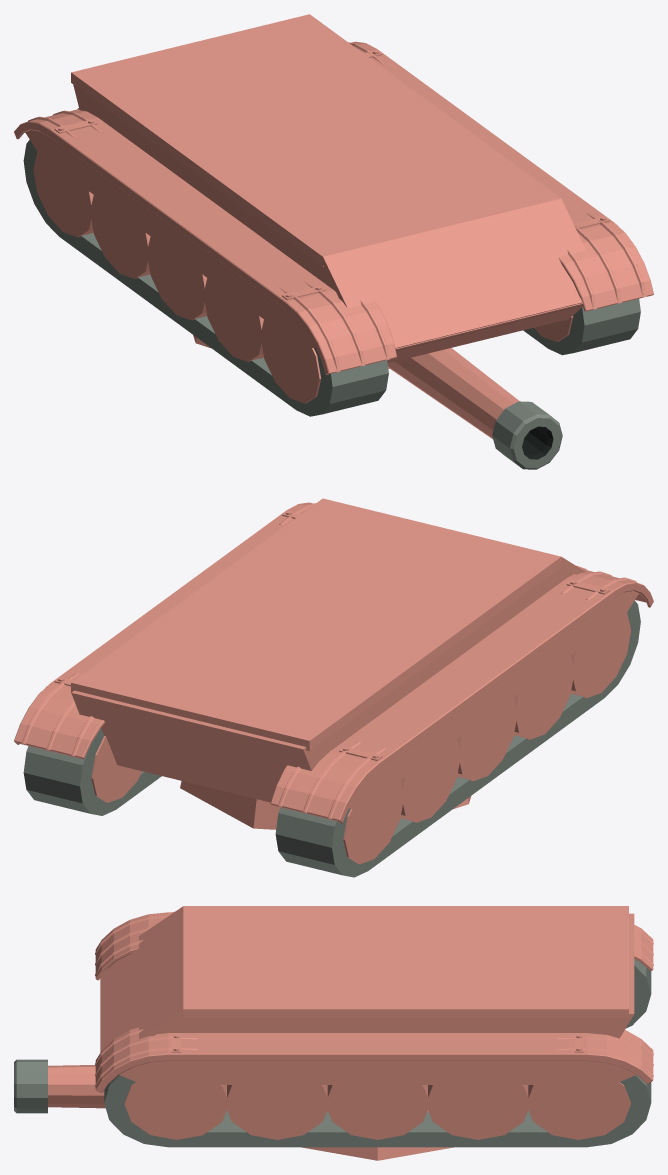
Rendered from cocky-tank.glb.
3 views of the same model, one above another, from view 1: azimuth 30°, elevation 25°; view 2: azimuth 150°, elevation 25°; view 3: azimuth 270°, elevation 25° (orthographic). The views are drawn at different scales.
Parts seen in each view (by area): view 1: tank-hull_tank-top, tank-hull_tank-paint, tank-hull_tank-track, tank-barrel_tank-paint, tank-hull_tank-pressed-mudguard-detail, wheel_left_5, wheel_left_1, wheel_left_3, wheel_left_2, wheel_left_4, tank-barrel_tank-track, tank-hull_tank-lower-armour (+1 smaller); view 2: tank-hull_tank-top, tank-hull_tank-paint, tank-hull_tank-track, wheel_left_1, wheel_left_5, wheel_left_2, tank-hull_tank-pressed-mudguard-detail, wheel_left_4, wheel_left_3, tank-turret_tank-paint, wheel_right_1; view 3: tank-hull_tank-top, tank-hull_tank-paint, tank-hull_tank-track, wheel_right_1, wheel_right_2, wheel_right_4, wheel_right_3, wheel_right_5, tank-hull_tank-pressed-mudguard-detail, tank-barrel_tank-paint, tank-barrel_tank-track, tank-turret_tank-paint.
Boxes of the visible parts, box(x1,y1,x2,y2) form: tank-hull_tank-top: box(71, 14, 561, 266); tank-hull_tank-paint: box(14, 41, 653, 374); tank-hull_tank-track: box(23, 139, 640, 416); tank-barrel_tank-paint: box(387, 348, 519, 438); tank-hull_tank-pressed-mudguard-detail: box(28, 42, 646, 372); wheel_left_5: box(261, 319, 321, 403); wheel_left_1: box(33, 152, 93, 237); wheel_left_3: box(147, 236, 207, 320); wheel_left_2: box(90, 195, 150, 278); wheel_left_4: box(205, 278, 263, 361); tank-barrel_tank-track: box(492, 401, 562, 469); tank-hull_tank-lower-armour: box(387, 303, 582, 363); tank-hull_tank-top: box(71, 498, 561, 751); tank-hull_tank-paint: box(14, 502, 653, 823); tank-hull_tank-track: box(23, 600, 640, 877); wheel_left_1: box(343, 780, 404, 864); wheel_left_5: box(571, 613, 630, 698); wheel_left_2: box(400, 739, 460, 822); tank-hull_tank-pressed-mudguard-detail: box(21, 503, 636, 818); wheel_left_4: box(514, 656, 572, 739); wheel_left_3: box(457, 697, 516, 781); tank-turret_tank-paint: box(180, 781, 471, 829); wheel_right_1: box(91, 736, 141, 802); tank-hull_tank-top: box(183, 906, 628, 1018); tank-hull_tank-paint: box(95, 906, 653, 1093); tank-hull_tank-track: box(104, 959, 651, 1147); wheel_right_1: box(526, 1082, 630, 1139); wheel_right_2: box(426, 1085, 529, 1139); wheel_right_4: box(225, 1085, 328, 1139); wheel_right_3: box(325, 1085, 429, 1139); wheel_right_5: box(124, 1082, 228, 1139); tank-hull_tank-pressed-mudguard-detail: box(95, 911, 653, 1086); tank-barrel_tank-paint: box(48, 1065, 105, 1108); tank-barrel_tank-track: box(14, 1059, 47, 1113); tank-turret_tank-paint: box(302, 1110, 453, 1160).
Size of the model in its own units: 3.97 by 2 by 7.57.
